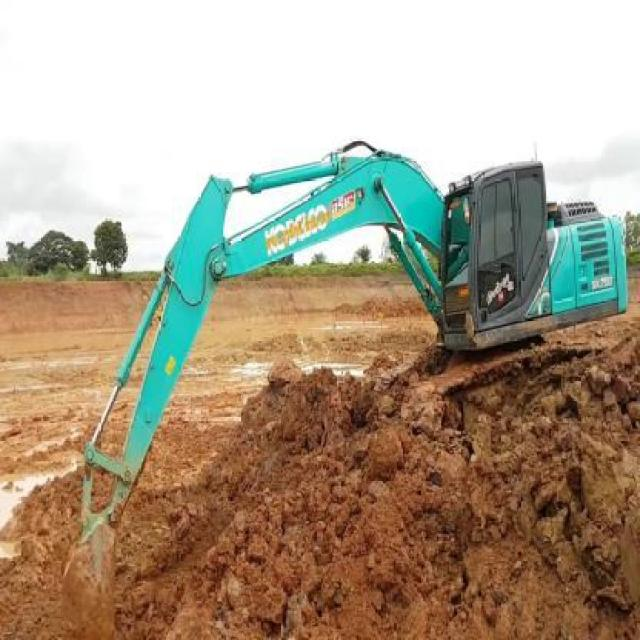excavator: (59, 138, 630, 634)
